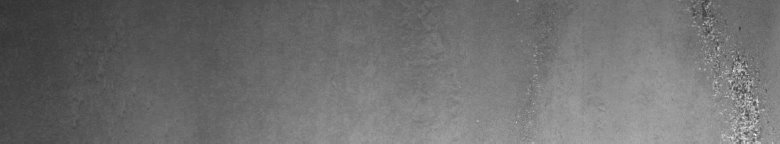hc: (680, 4, 765, 136)
